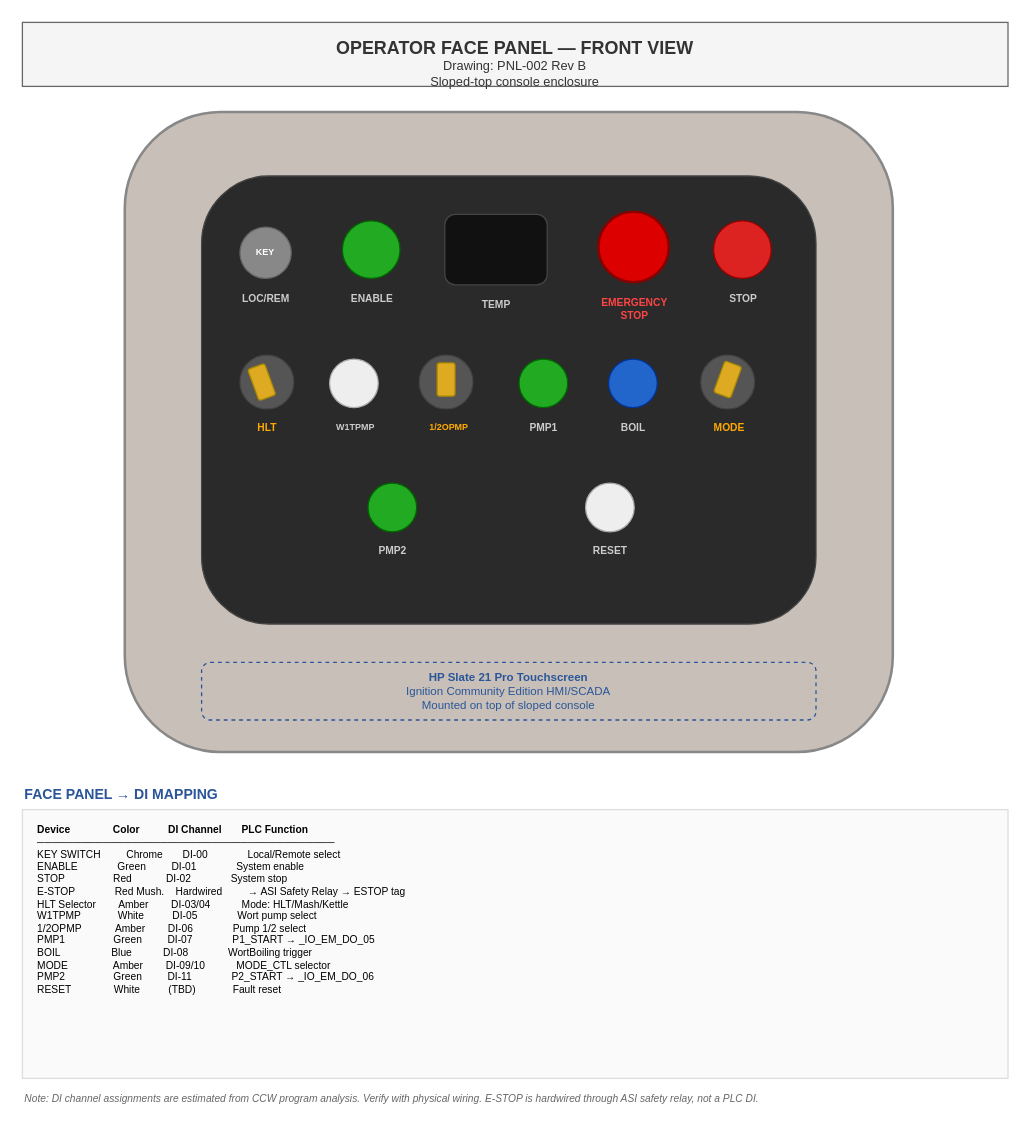
This 1030x1139 diagram has some shape labels left out. The shapes that lost their labels are listed below. From the top down, each one's centre as x and y in pixels, then its label:
(495,249): 237 °F
(632,246): E-STOP
